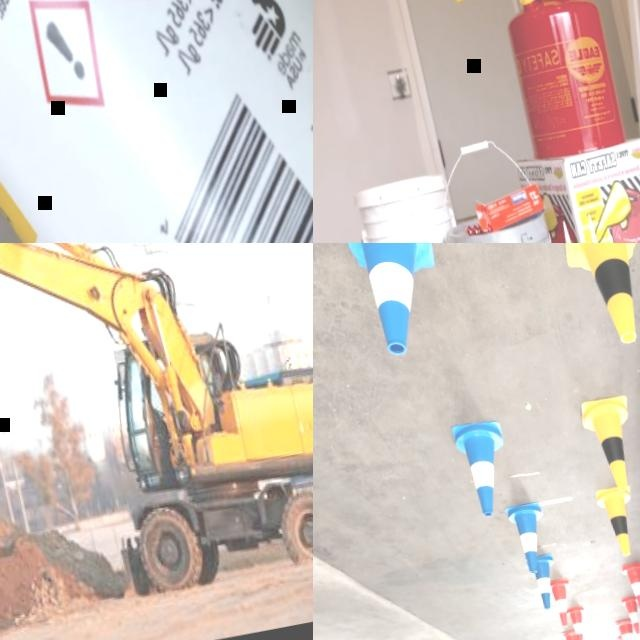Safety Cone: (331, 243, 455, 362), (550, 243, 640, 356), (446, 415, 520, 520), (575, 391, 640, 499), (502, 501, 553, 578), (591, 481, 640, 560), (528, 552, 563, 610), (548, 576, 578, 628), (618, 561, 640, 612), (566, 603, 592, 640), (618, 592, 640, 635), (614, 618, 638, 640), (558, 628, 587, 640)
machinery: (0, 243, 313, 640)
